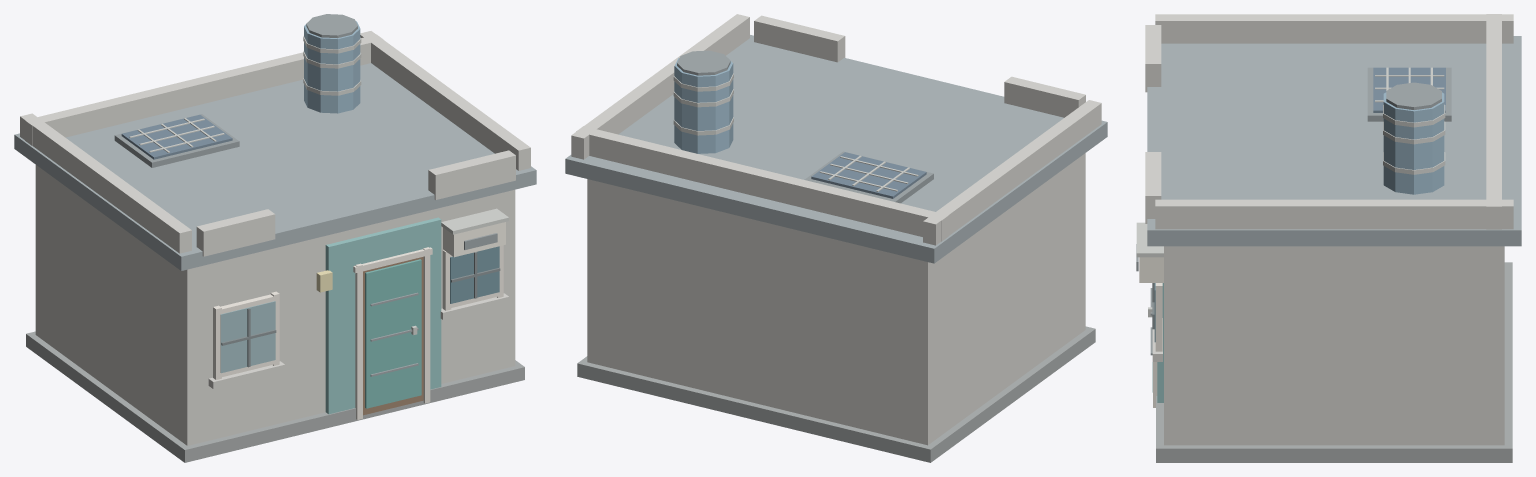
Rendered from 08_Flat_Roof_Urban_Home.fbx.
3 renders of one model, left to right at view 1: azimuth 30°, elevation 25°; view 2: azimuth 150°, elevation 25°; view 3: azimuth 270°, elevation 25°, orthographic. The views are drawn at different scales.
Visible parts, largest first — view 1: H08_002_MainWalls, H08_004_FlatRoofSlab, H08_003_TealAccentPanel, H08_001_FoundationSlab, H08_005_ParapetBack, H08_011_GreenSteelDoor_DoorLeaf, H08_006_ParapetLeft, H08_007_ParapetRight, H08_038_RoofWaterTank_Barrel, H08_019_LeftSecurityWindow_Pane, H08_009_ParapetFrontR, H08_008_ParapetFrontL (+13 smaller); view 2: H08_002_MainWalls, H08_004_FlatRoofSlab, H08_005_ParapetBack, H08_001_FoundationSlab, H08_006_ParapetLeft, H08_007_ParapetRight, H08_038_RoofWaterTank_Barrel, H08_009_ParapetFrontR, H08_044_SolarPanelGlass, H08_008_ParapetFrontL, H08_042_RoofWaterTank_Lid, H08_043_SolarPanelBase; view 3: H08_002_MainWalls, H08_004_FlatRoofSlab, H08_007_ParapetRight, H08_006_ParapetLeft, H08_001_FoundationSlab, H08_038_RoofWaterTank_Barrel, H08_005_ParapetBack, H08_044_SolarPanelGlass, H08_042_RoofWaterTank_Lid, H08_008_ParapetFrontL, H08_009_ParapetFrontR, H08_043_SolarPanelBase (+4 smaller).
Part boxes in pixels (x1,y1,x2,y2): H08_002_MainWalls: (35,165,515,445); H08_004_FlatRoofSlab: (14,63,536,270); H08_003_TealAccentPanel: (325,217,441,414); H08_001_FoundationSlab: (26,331,524,462); H08_005_ParapetBack: (25,34,383,145); H08_011_GreenSteelDoor_DoorLeaf: (365,259,421,408); H08_006_ParapetLeft: (20,113,191,253); H08_007_ParapetRight: (360,31,530,170); H08_038_RoofWaterTank_Barrel: (304,21,360,113); H08_019_LeftSecurityWindow_Pane: (220,301,275,373); H08_009_ParapetFrontR: (428,150,515,199); H08_008_ParapetFrontL: (196,209,275,256); H08_002_MainWalls: (587,153,1085,445); H08_004_FlatRoofSlab: (565,35,1107,263); H08_005_ParapetBack: (576,126,948,241); H08_001_FoundationSlab: (577,326,1095,462); H08_006_ParapetLeft: (923,100,1101,245); H08_007_ParapetRight: (571,14,749,159); H08_038_RoofWaterTank_Barrel: (674,58,733,153); H08_009_ParapetFrontR: (754,15,845,62); H08_044_SolarPanelGlass: (811,152,926,198); H08_008_ParapetFrontL: (1004,76,1085,117); H08_042_RoofWaterTank_Lid: (677,50,730,75); H08_043_SolarPanelBase: (804,151,933,203); H08_002_MainWalls: (1164,246,1504,445); H08_004_FlatRoofSlab: (1147,36,1521,246); H08_007_ParapetRight: (1155,199,1513,229); H08_006_ParapetLeft: (1155,14,1513,43); H08_001_FoundationSlab: (1156,262,1512,462); H08_038_RoofWaterTank_Barrel: (1383,92,1444,194); H08_005_ParapetBack: (1486,14,1501,229); H08_044_SolarPanelGlass: (1373,67,1445,112); H08_042_RoofWaterTank_Lid: (1386,82,1441,109); H08_008_ParapetFrontL: (1145,25,1161,92); H08_009_ParapetFrontR: (1145,152,1161,223); H08_043_SolarPanelBase: (1367,67,1451,121).
Bounding box in the file's own units: 520 × 406 × 435.
